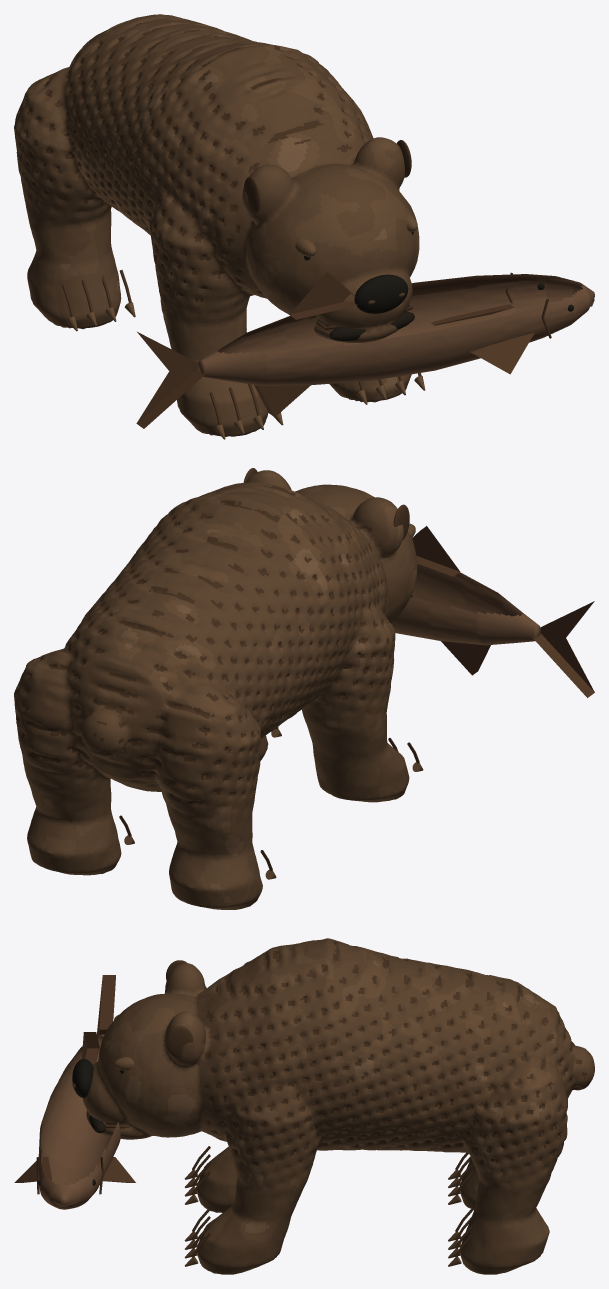
File: hokkaido_bear_official_harness.glb
The picture shows the model from 3 angles, top to bottom: view 1: azimuth 30°, elevation 25°; view 2: azimuth 150°, elevation 25°; view 3: azimuth 270°, elevation 25°; orthographic projection. The views are drawn at different scales.
Visible parts, largest first — view 1: Kuma_Handcarved_OnePiece, Salmon_Tapered_Body, Salmon_Forked_Tail, Bear_Black_Carved_Nose, Salmon_DorsalFin, Salmon_PectoralFin-1, Salmon_AnalFin, MouthOpening; view 2: Kuma_Handcarved_OnePiece, Salmon_Tapered_Body, Salmon_Forked_Tail, Salmon_DorsalFin, Salmon_AnalFin; view 3: Kuma_Handcarved_OnePiece, Salmon_Tapered_Body, Salmon_Forked_Tail, Bear_Black_Carved_Nose, EarWell_-1, Salmon_PectoralFin1, Salmon_DorsalFin, Salmon_PectoralFin-1.
Boxes of the visible parts, bbox=[...] form: Kuma_Handcarved_OnePiece: bbox=[14, 14, 419, 436]; Salmon_Tapered_Body: bbox=[197, 274, 594, 385]; Salmon_Forked_Tail: bbox=[136, 332, 207, 428]; Bear_Black_Carved_Nose: bbox=[354, 274, 408, 313]; Salmon_DorsalFin: bbox=[289, 272, 357, 319]; Salmon_PectoralFin-1: bbox=[470, 332, 534, 374]; Salmon_AnalFin: bbox=[254, 385, 310, 417]; MouthOpening: bbox=[329, 311, 414, 341]; Kuma_Handcarved_OnePiece: bbox=[14, 470, 417, 909]; Salmon_Tapered_Body: bbox=[391, 564, 540, 645]; Salmon_Forked_Tail: bbox=[530, 601, 594, 697]; Salmon_DorsalFin: bbox=[412, 526, 460, 576]; Salmon_AnalFin: bbox=[441, 641, 490, 675]; Kuma_Handcarved_OnePiece: bbox=[82, 938, 594, 1274]; Salmon_Tapered_Body: bbox=[37, 1034, 120, 1209]; Salmon_Forked_Tail: bbox=[97, 975, 115, 1036]; Bear_Black_Carved_Nose: bbox=[72, 1059, 93, 1097]; EarWell_-1: bbox=[166, 1026, 193, 1057]; Salmon_PectoralFin1: bbox=[102, 1157, 135, 1182]; Salmon_DorsalFin: bbox=[82, 1032, 99, 1064]; Salmon_PectoralFin-1: bbox=[14, 1157, 52, 1182].
Bounding box in the file's own units: 2.62 × 1.86 × 3.46.
